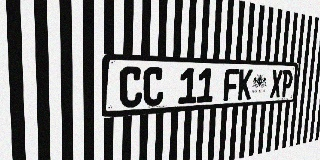1: (178, 68, 197, 104), (196, 68, 214, 103)
C: (119, 66, 143, 108), (143, 67, 164, 107)
F: (223, 69, 239, 101)
K: (238, 69, 253, 100)
P: (281, 70, 293, 97)
X: (270, 70, 283, 98)
